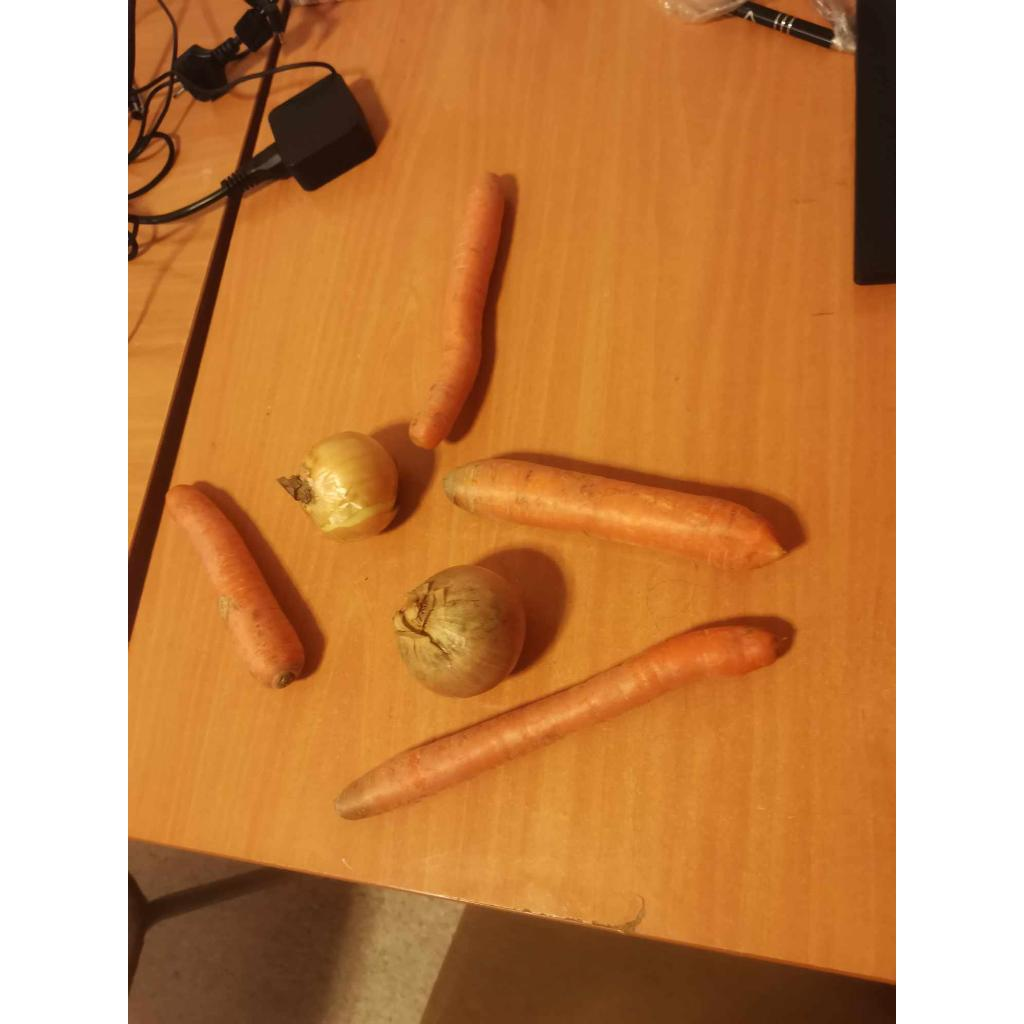carrot: (334, 626, 776, 820), (444, 458, 784, 570), (166, 484, 304, 688), (410, 172, 504, 450)
